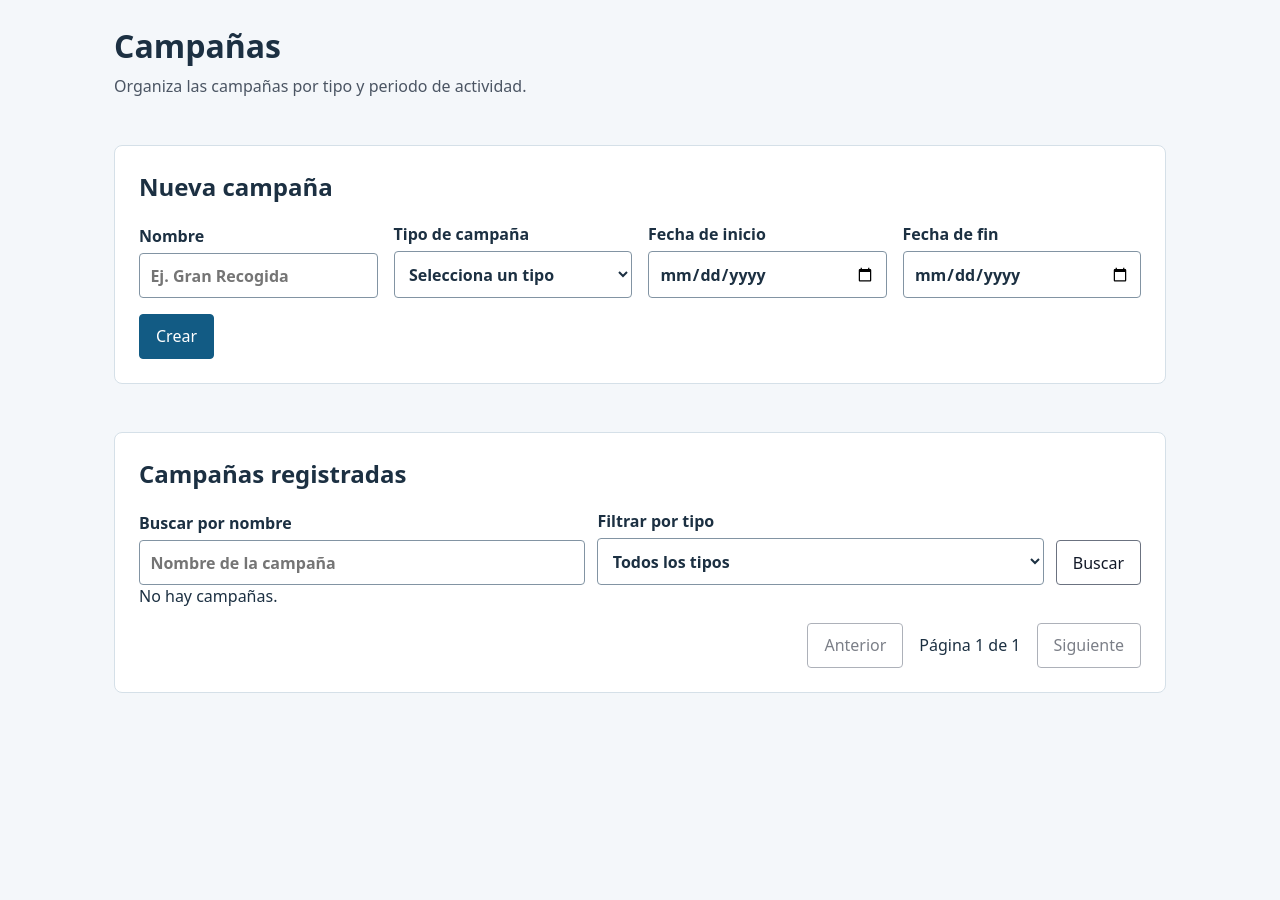
Test: página de campañas › crea una campaña con tipo y fechas
In the field labelled "Nombre": (258, 276) [139,253,378,298], type "Gran Recogida"
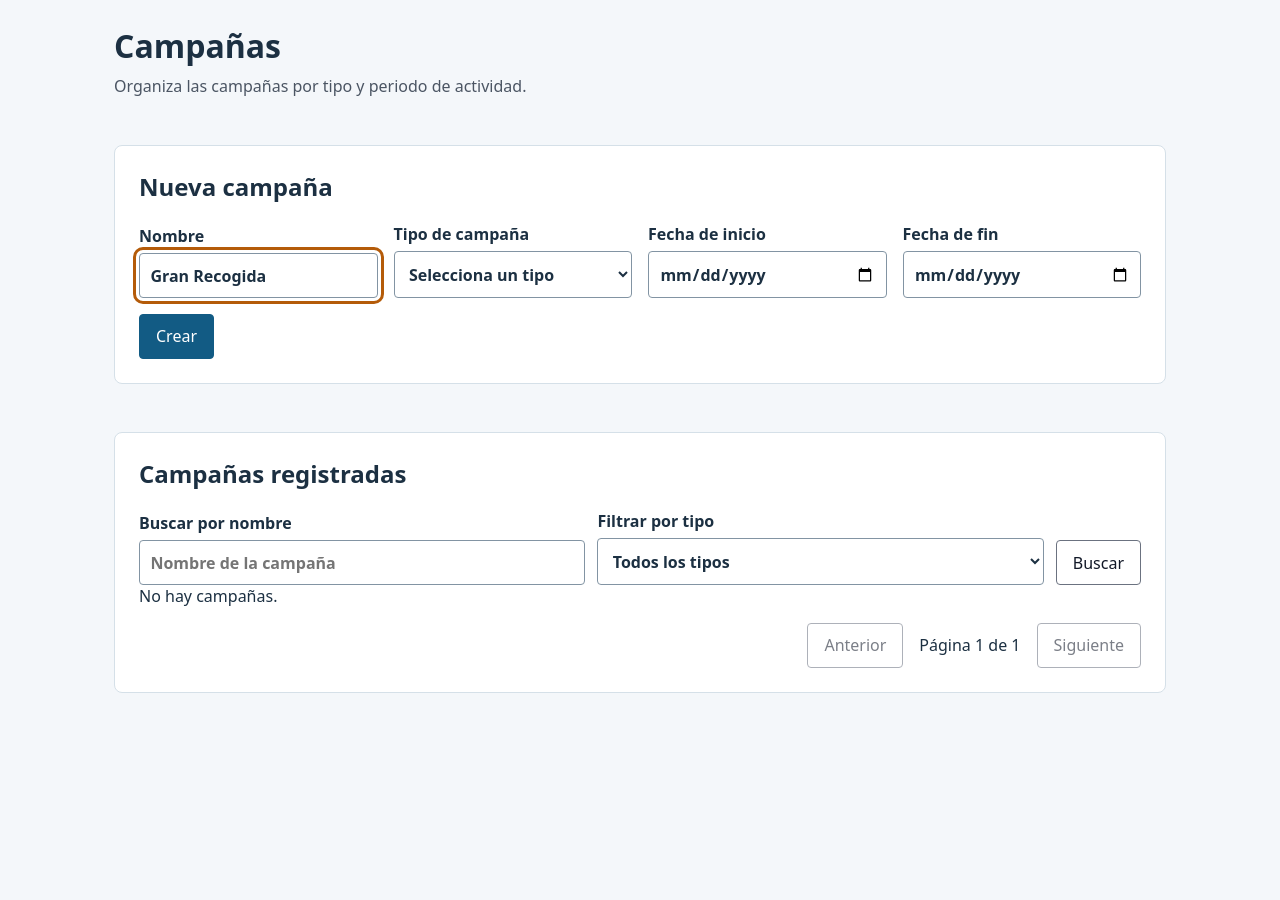
Select "Alimentación" in the dropdown labelled "Tipo de campaña": (513, 275) [394,251,632,298]
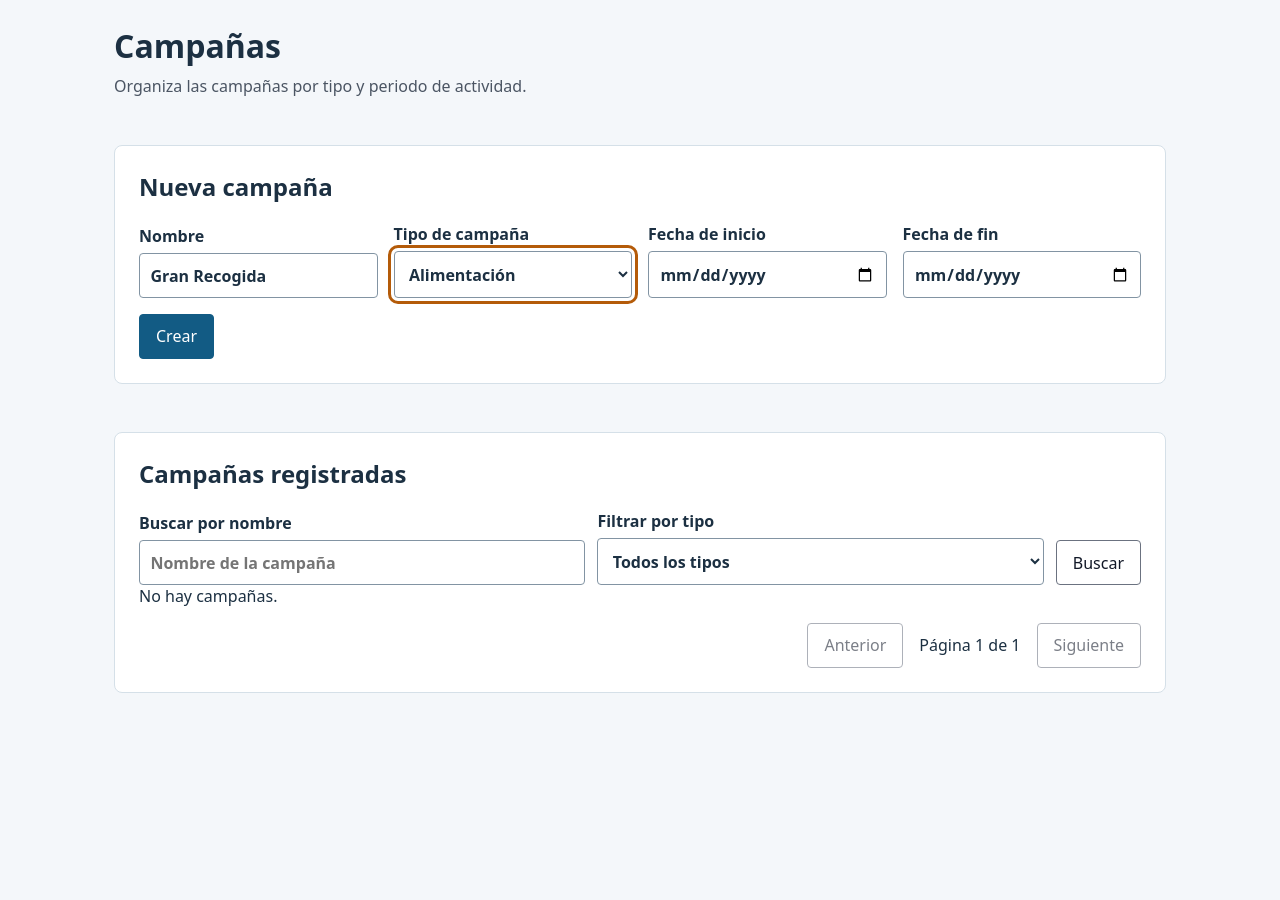
In the date field labelled "Fecha de inicio": (767, 275) [648,251,886,298], type "2026-11-02"
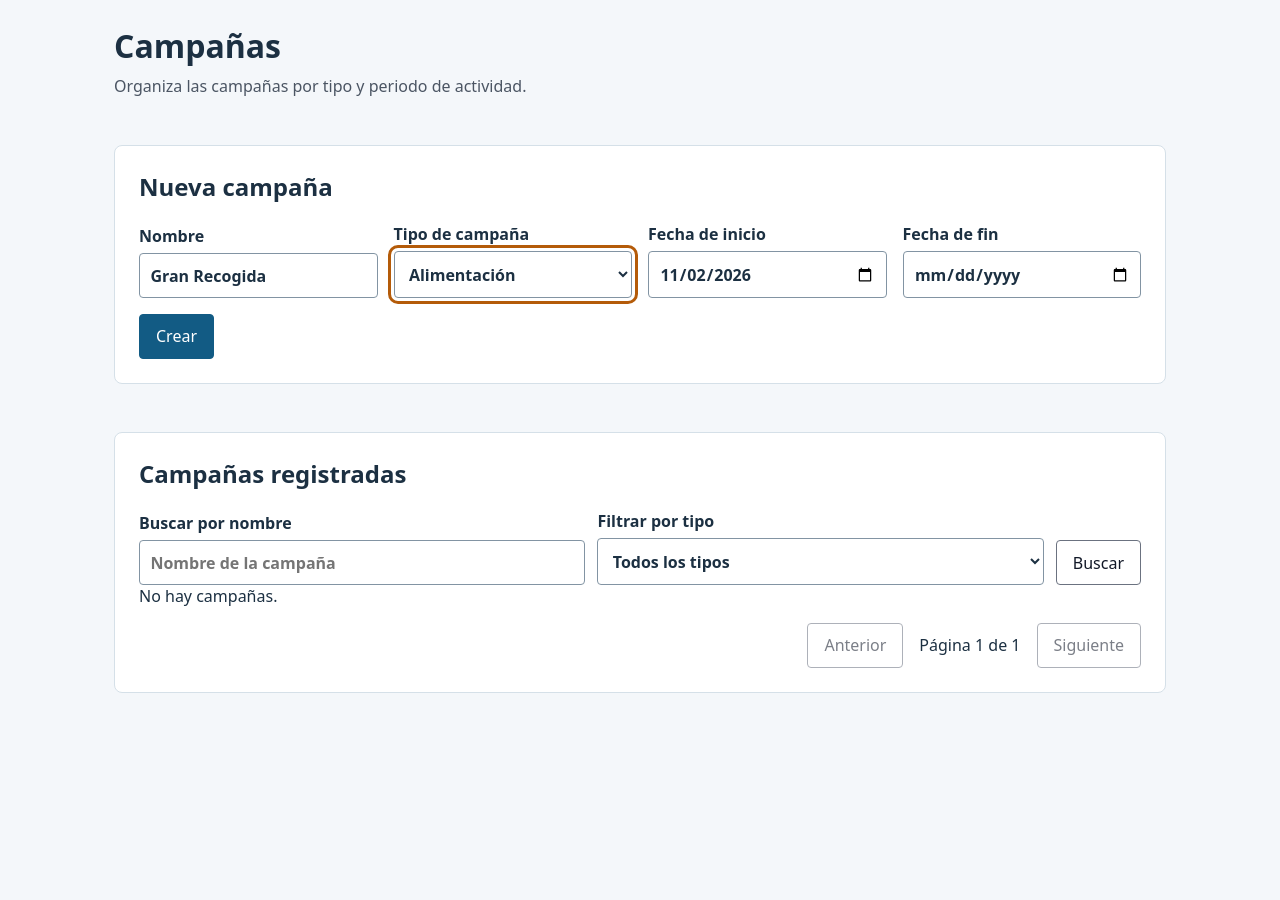
In the date field labelled "Fecha de fin": (1022, 275) [902,251,1141,298], type "2026-11-20"
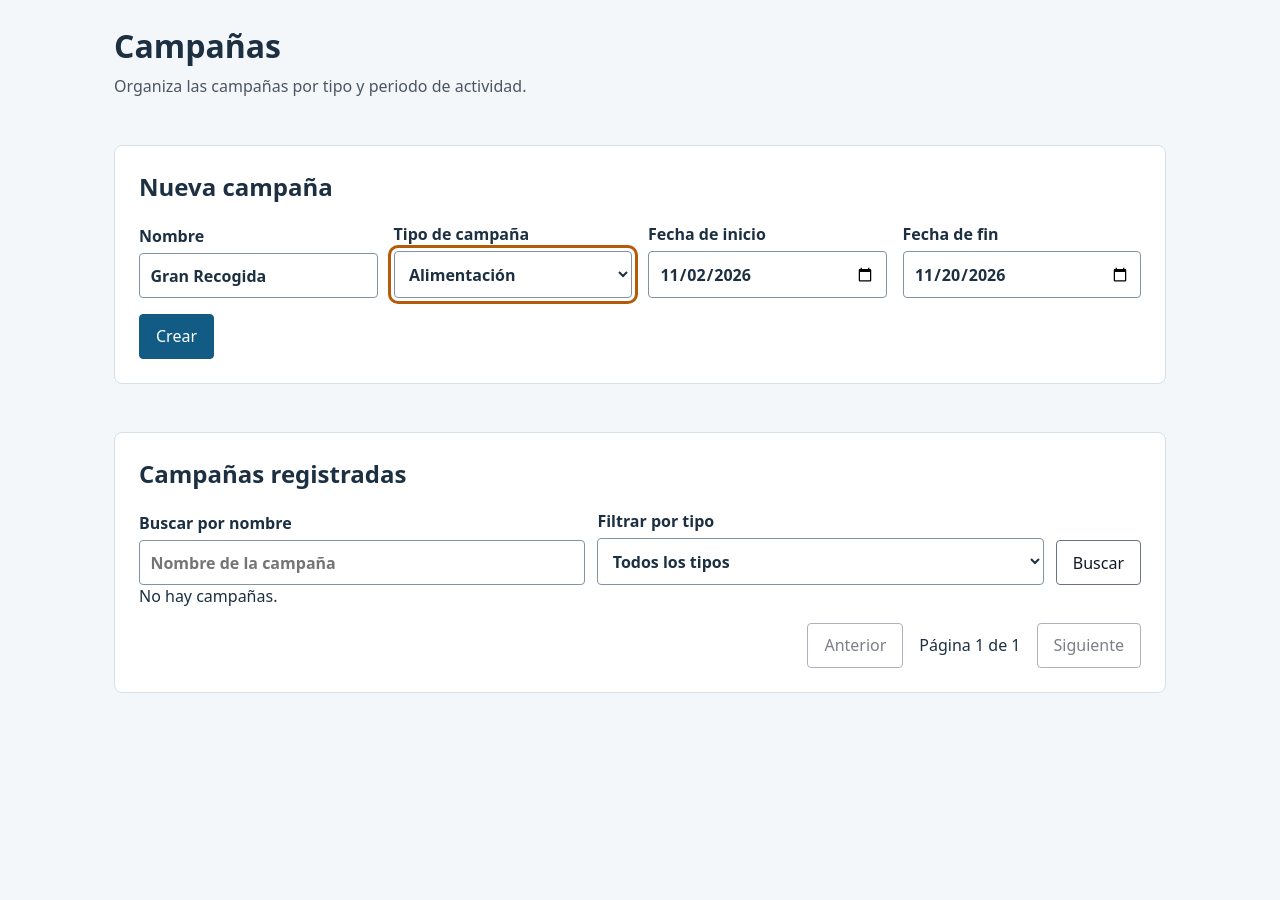
Click the button "Crear": click(176, 336) [139,314,214,359]
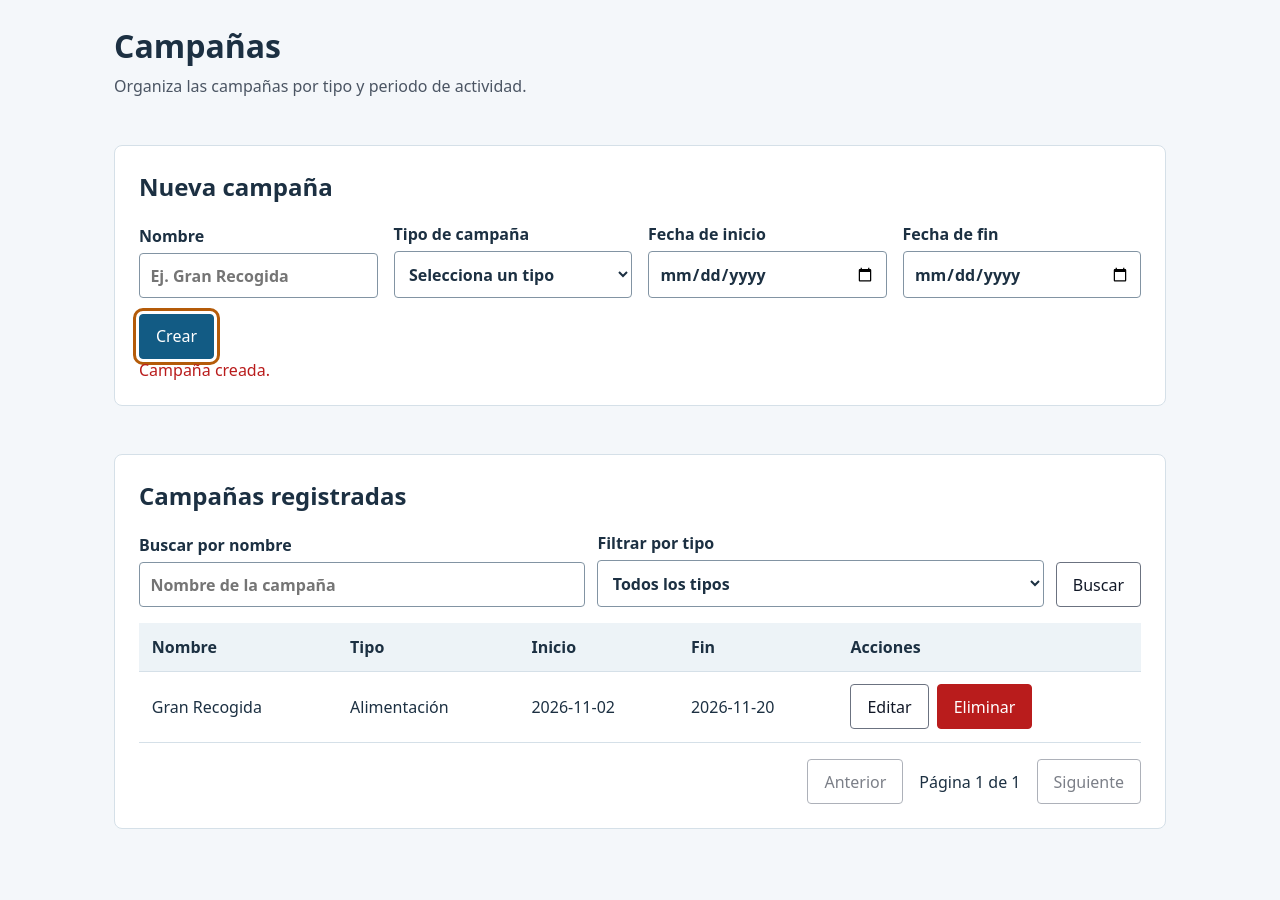
Expected: the text "Campaña creada." is shown, [139,359,270,381]
Expected: the text "Gran Recogida" is shown, [139,671,337,743]
